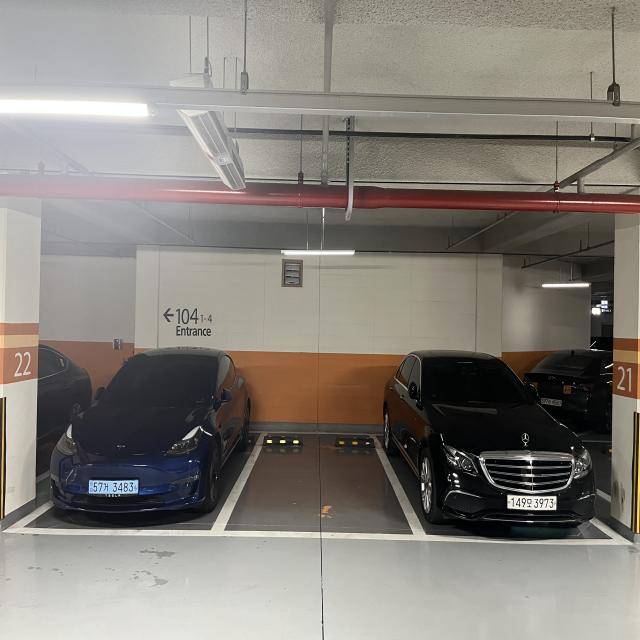empty: (199, 427, 432, 547)
occupied: (384, 332, 616, 554), (42, 333, 234, 542)
